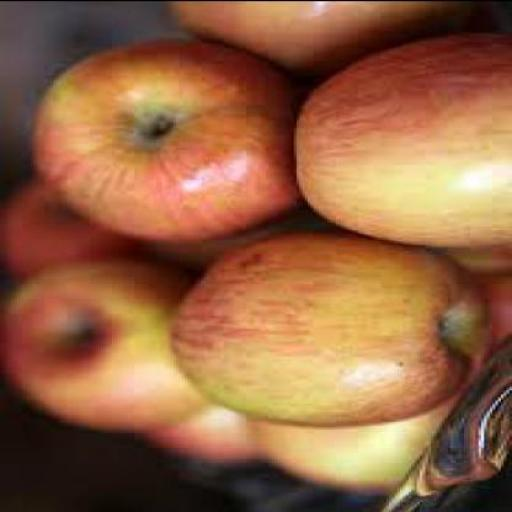biodegradable: (165, 231, 484, 423), (30, 37, 291, 240), (290, 28, 510, 246), (0, 253, 213, 430), (167, 1, 496, 69), (244, 391, 459, 490), (0, 172, 151, 274), (151, 202, 333, 274), (132, 396, 257, 462), (442, 244, 509, 272)
